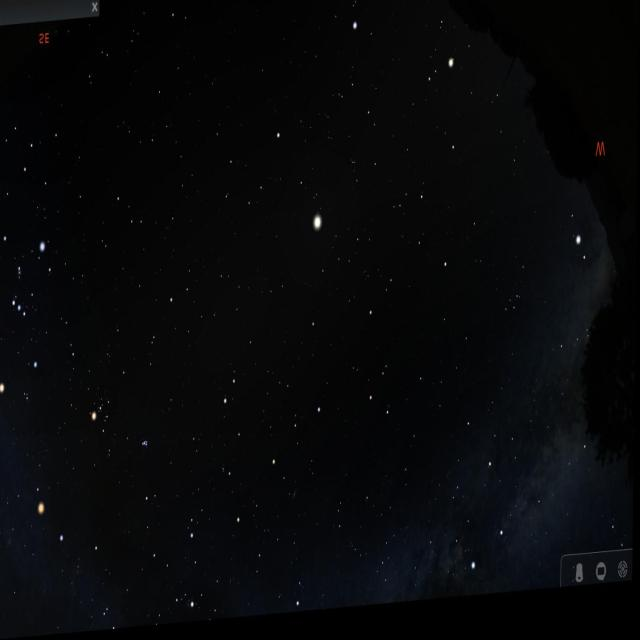cygnus: (469, 439, 590, 596)
orion: (0, 223, 52, 415)
pleiades: (138, 432, 152, 453)
taurus: (78, 350, 160, 472)
